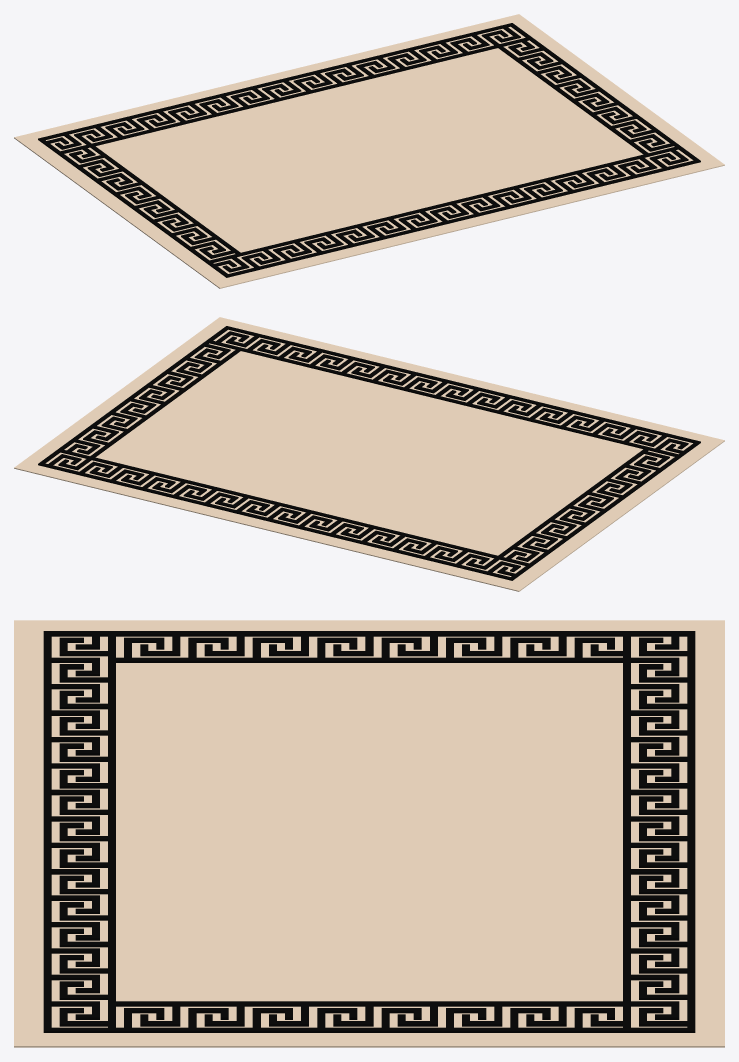
File: sweethome3d-contributions-greek-carpet-191.glb
3 views of the same model, one above another, from view 1: azimuth 30°, elevation 25°; view 2: azimuth 150°, elevation 25°; view 3: azimuth 270°, elevation 25° (orthographic). The views are drawn at different scales.
Visible parts, largest first — view 1: piece_1_creme_1_1, piece_2_meandros_1_15; view 2: piece_1_creme_1_1, piece_2_meandros_1_15; view 3: piece_1_creme_1_1, piece_2_meandros_1_15.
Part boxes in pixels (x1,y1,x2,y2): piece_1_creme_1_1: (14, 14, 724, 288); piece_2_meandros_1_15: (38, 23, 700, 277); piece_1_creme_1_1: (14, 317, 724, 591); piece_2_meandros_1_15: (38, 326, 700, 580); piece_1_creme_1_1: (14, 620, 724, 1047); piece_2_meandros_1_15: (43, 631, 695, 1032).
Size of the model in its own units: 170 by 0.7 by 120.
